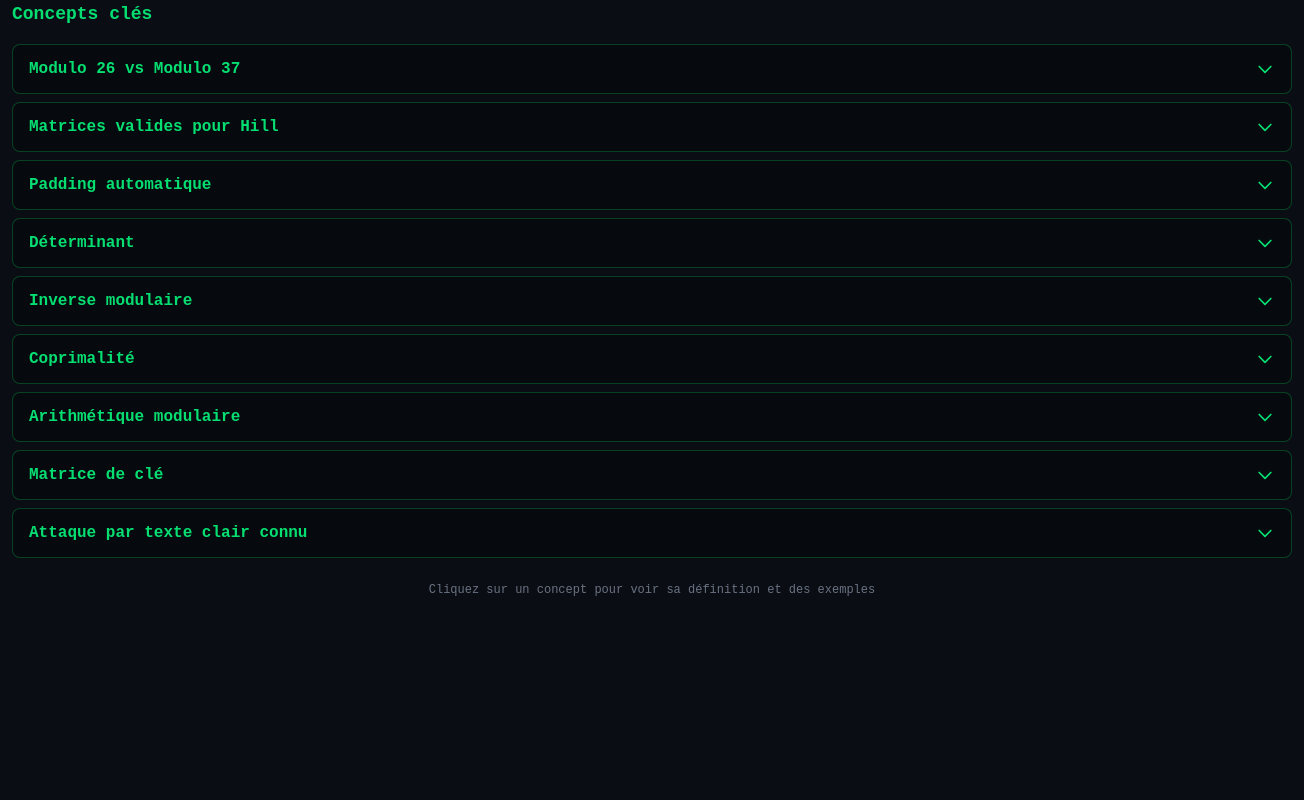
Test: ConceptExplainer › expands concept when clicked
Click the button "Déterminant": (82, 243) [13,219,1291,267]
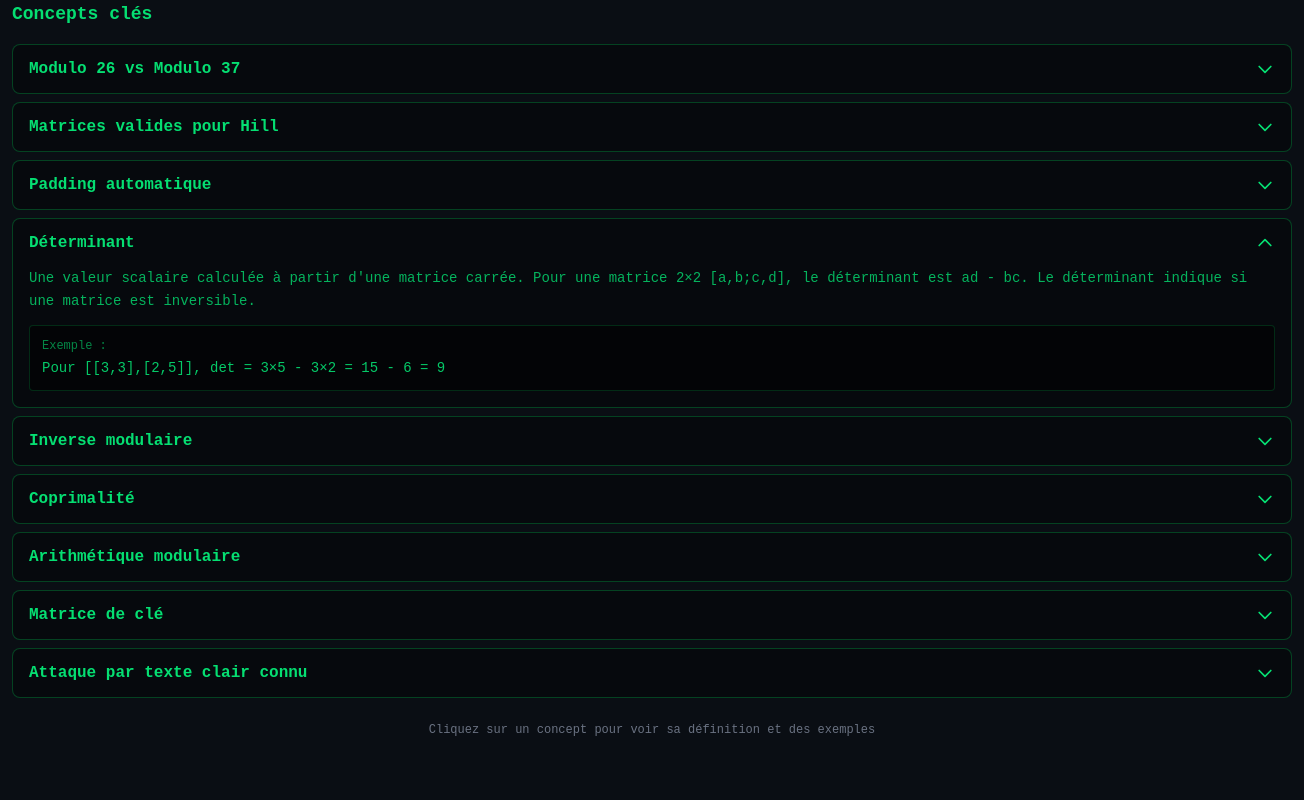
Expected: the text "Une valeur scalaire calculée" is shown, [29,270,1247,309]
